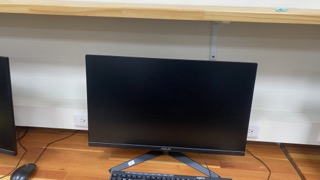screen: (83, 53, 258, 158)
